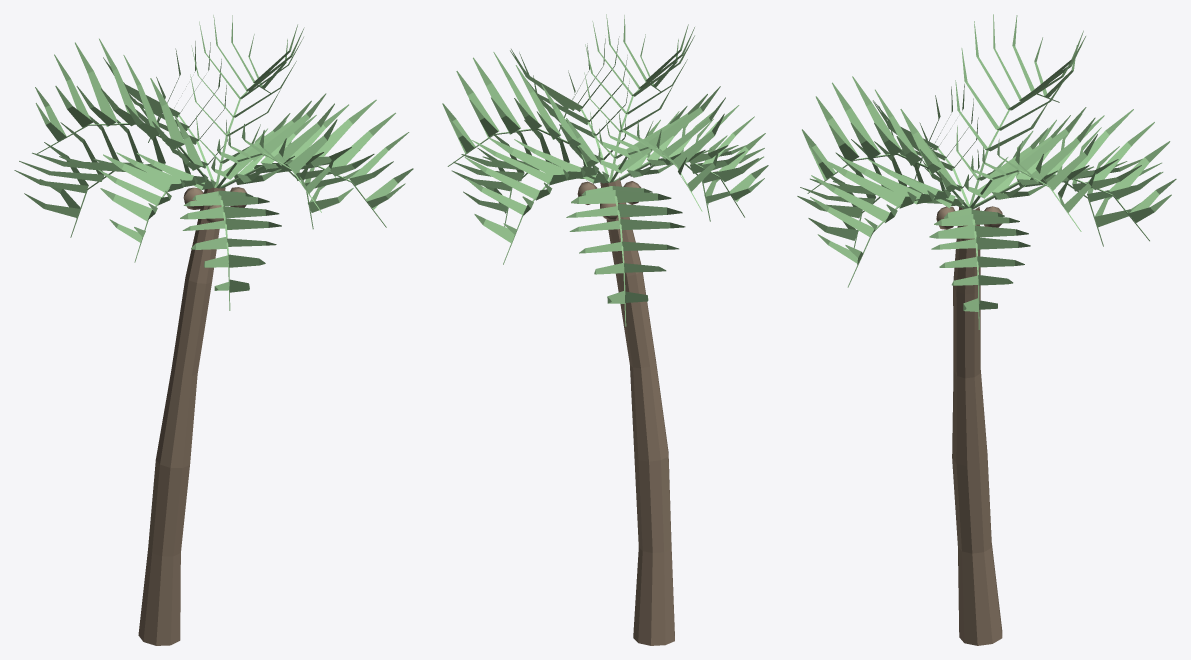
File: tree_palm.glb
The picture shows the model from 3 angles, left to right: view 1: azimuth 30°, elevation 25°; view 2: azimuth 150°, elevation 25°; view 3: azimuth 270°, elevation 25°; orthographic projection. The views are drawn at different scales.
Parts seen in each view (by area): view 1: palm-mature; view 2: palm-mature; view 3: palm-mature.
Boxes of the visible parts, left/top/right/bottom form: palm-mature: left=14, top=15, right=413, bottom=645; palm-mature: left=442, top=14, right=768, bottom=645; palm-mature: left=797, top=14, right=1176, bottom=645.
Size of the model in its own units: 2.85 by 5.37 by 3.16.
